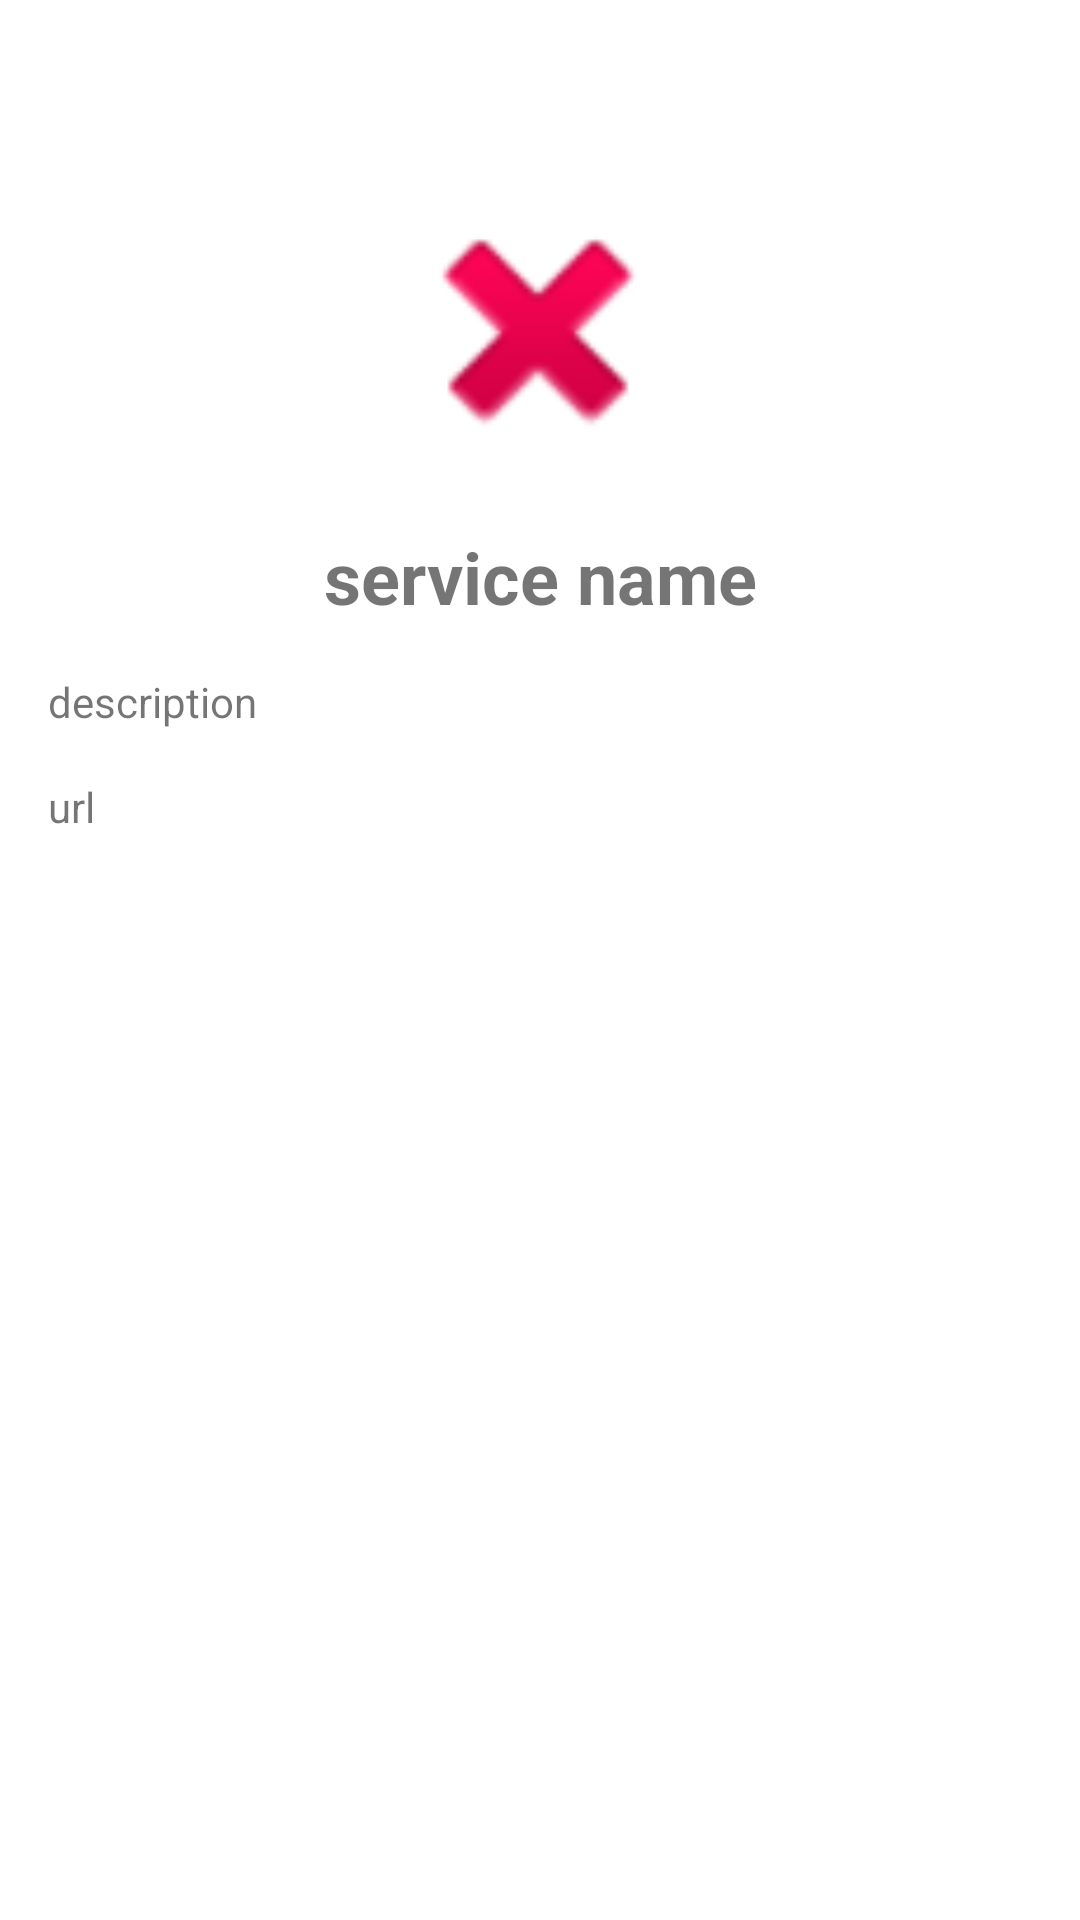

Screen size 1080x1920. Icon name, then its box in pixels as [x1=x1, y1=y1, x2=x2, y2=y2]:
delete: [x1=442, y1=239, x2=634, y2=424]
